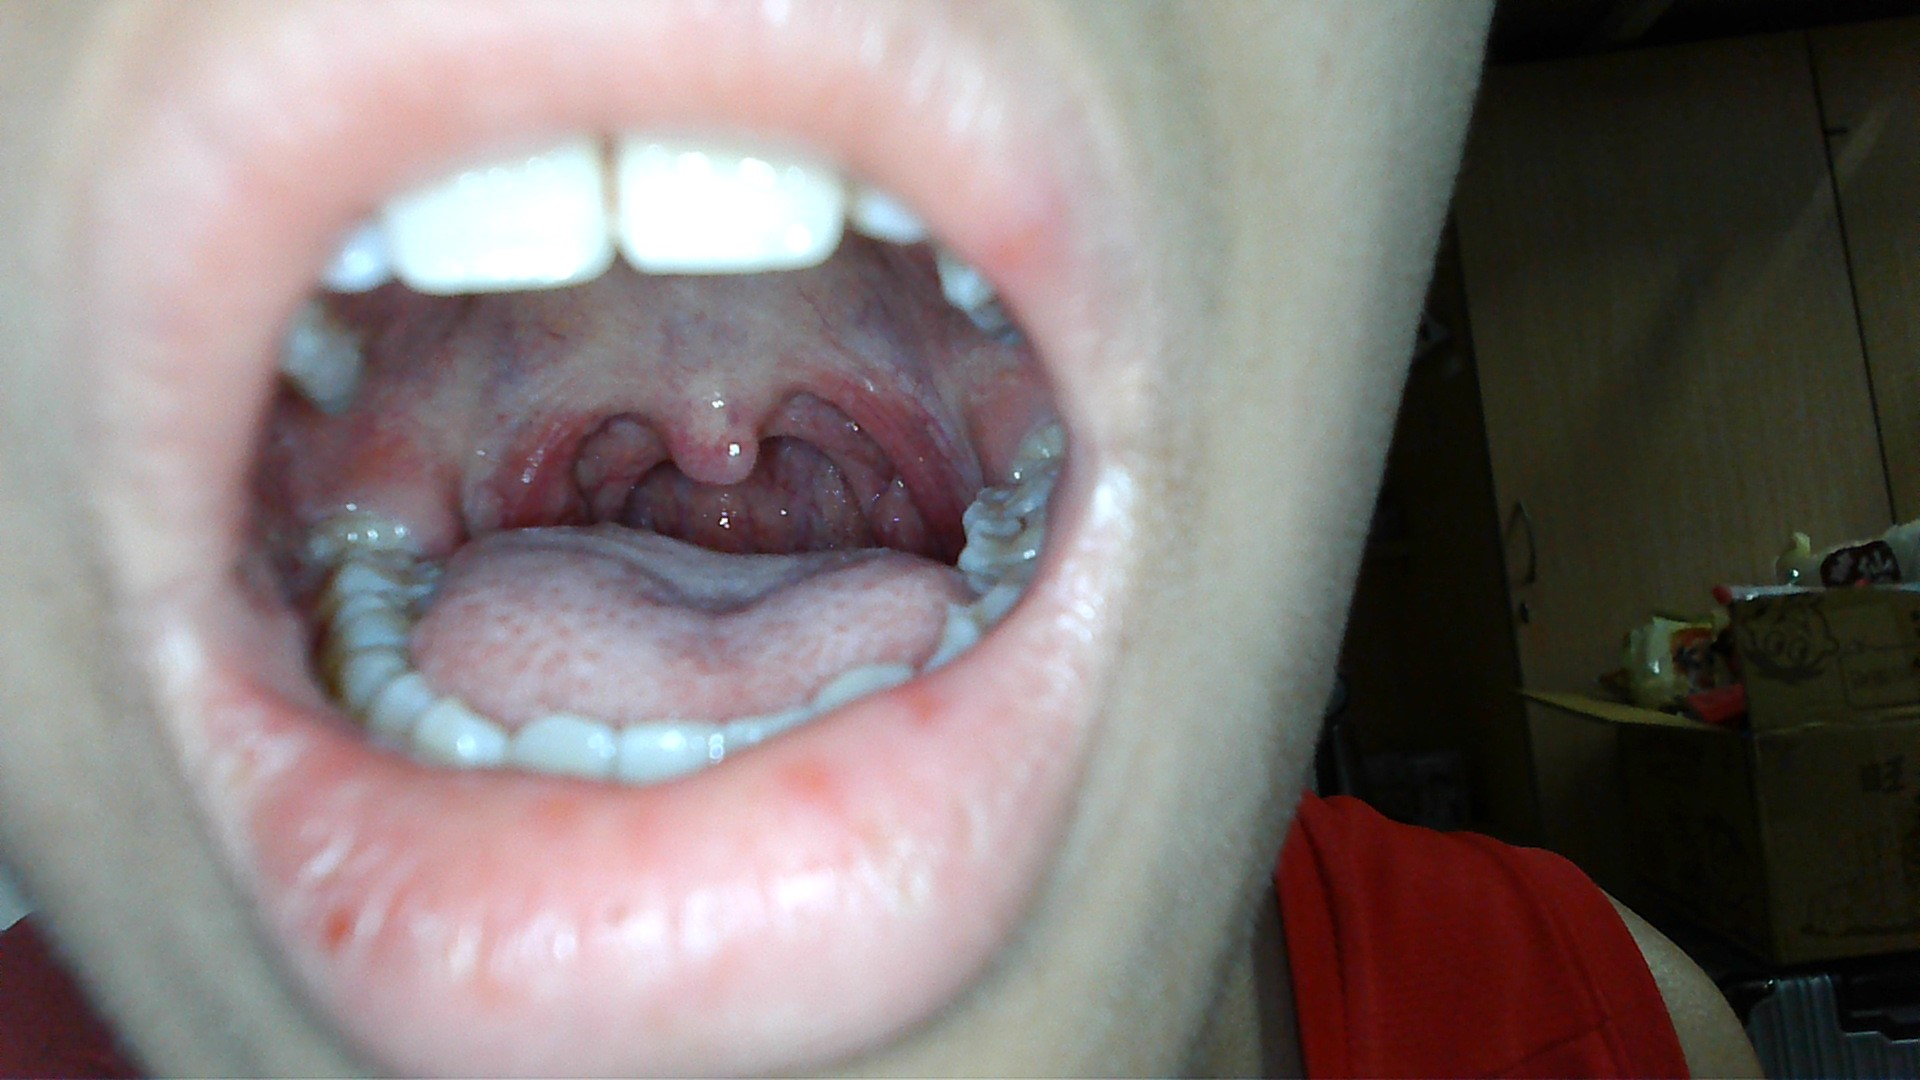throat: (829, 356, 942, 535), (514, 376, 634, 516)
